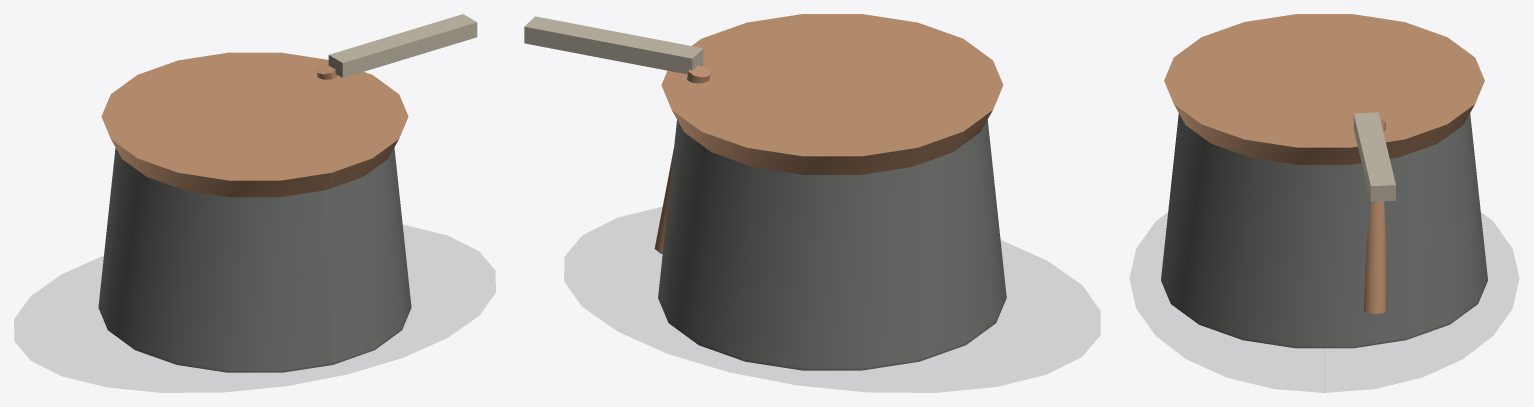
The model's file is water_tank.glb.
3 views of the same model, side by side, from view 1: azimuth 30°, elevation 25°; view 2: azimuth 150°, elevation 25°; view 3: azimuth 270°, elevation 25° (orthographic). The views are drawn at different scales.
Parts seen in each view (by area): view 1: tank_base, tank_cap, baked_contact_shadow, spout; view 2: tank_base, tank_cap, baked_contact_shadow, spout, pump_pipe; view 3: tank_base, tank_cap, baked_contact_shadow, spout, pump_pipe.
Part boxes in pixels (x1,y1,x2,y2): tank_base: (98, 148, 411, 372); tank_cap: (101, 52, 408, 197); baked_contact_shadow: (14, 225, 495, 392); spout: (328, 14, 477, 77); tank_base: (658, 120, 1006, 370); tank_cap: (661, 14, 1003, 174); baked_contact_shadow: (564, 207, 1099, 392); spout: (524, 16, 703, 74); pump_pipe: (654, 65, 710, 253); tank_base: (1161, 113, 1487, 348); tank_cap: (1164, 14, 1484, 164); baked_contact_shadow: (1130, 213, 1518, 392); spout: (1353, 112, 1395, 201); pump_pipe: (1364, 120, 1387, 313).
Size of the model in its own units: 1.8 by 0.7675 by 1.24.
